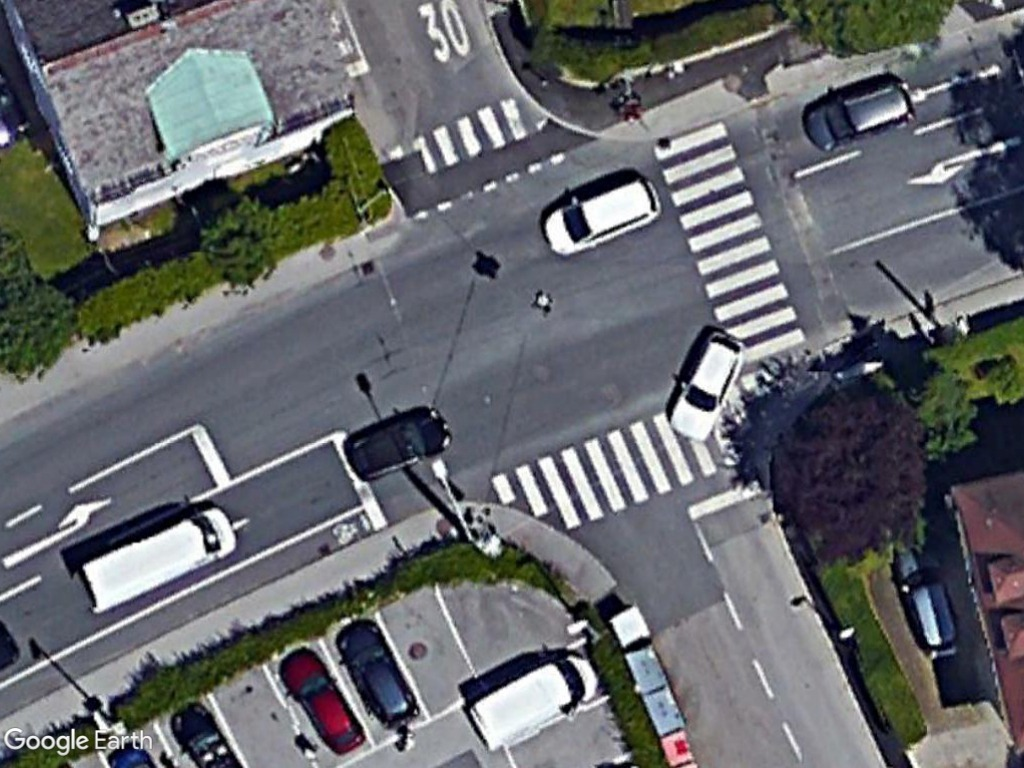car: (536, 173, 663, 262), (274, 643, 365, 757), (661, 329, 747, 446), (344, 400, 457, 489), (335, 617, 422, 732), (893, 541, 967, 665), (801, 77, 920, 154)
van: (73, 496, 241, 617), (464, 648, 603, 754)
